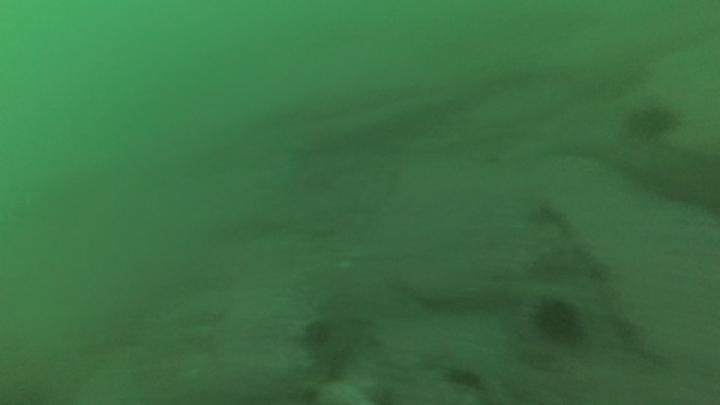echinus: (531, 295, 585, 345), (624, 100, 679, 141), (443, 363, 486, 393), (300, 317, 335, 350)
